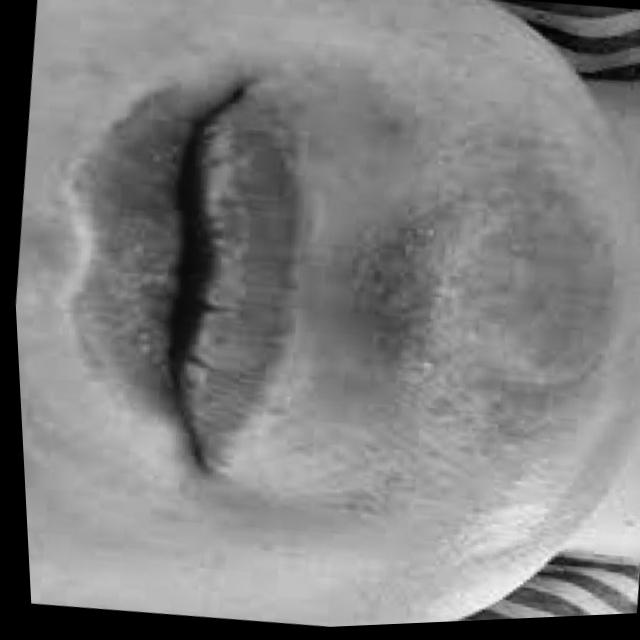Rosacea: (334, 123, 616, 510)
